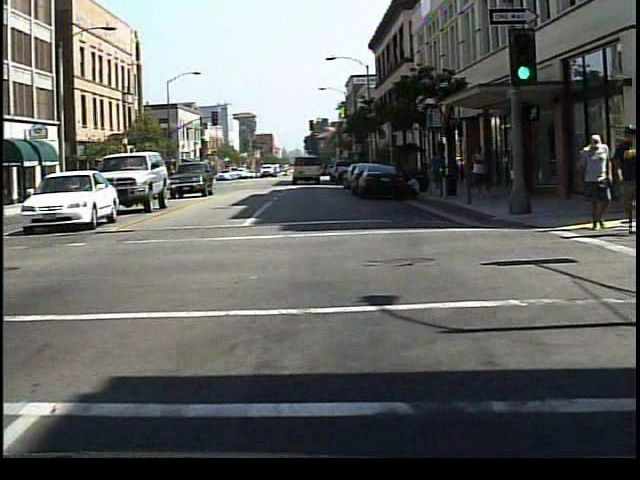person: (572, 131, 618, 234), (469, 142, 500, 205)
